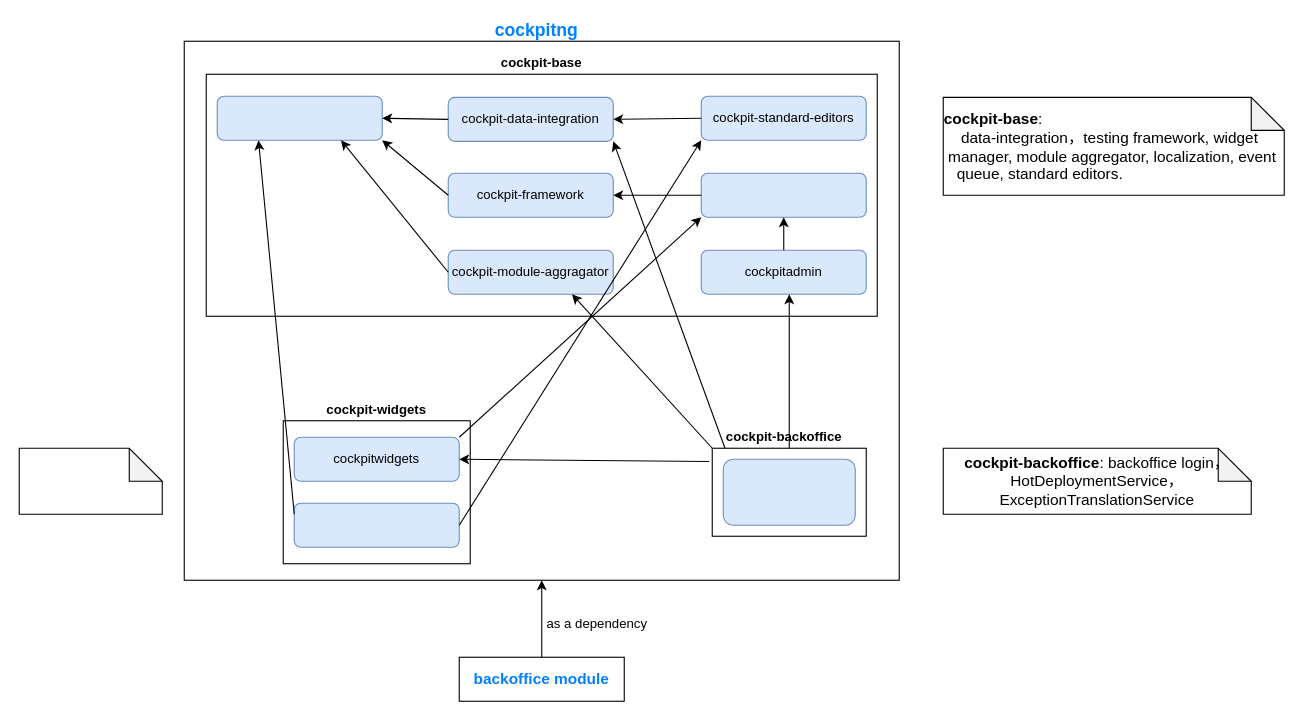
Image size: 1304x721. Some labels were removed from this diagram. The centre of each missing label's shape, as x and y in pixels:
backoffice-core: the point at 788,491
backoffice-widgets: the point at 376,524
cockpit-widgets : reusable widgets: the point at 90,480
cockpitcore: the point at 299,117
cockpitesting: the point at 783,194
